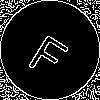F: (25, 25, 76, 80)
